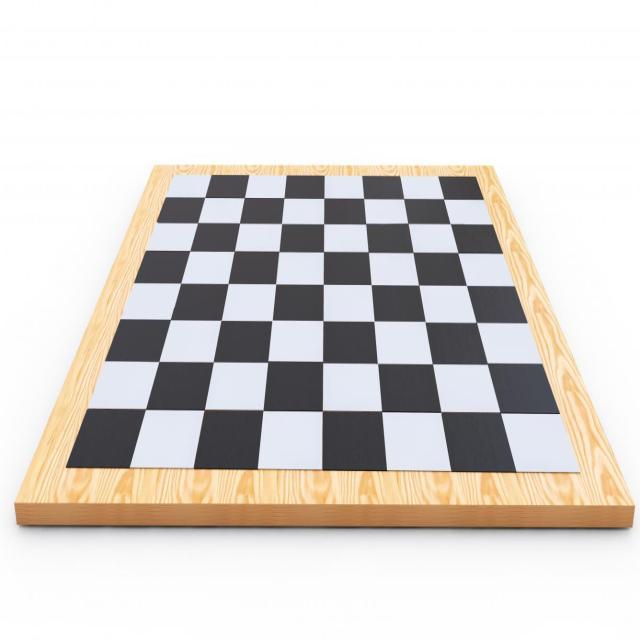chess-table-corners: (556, 443, 596, 498), (46, 440, 82, 490), (462, 166, 488, 196), (162, 166, 182, 190)
